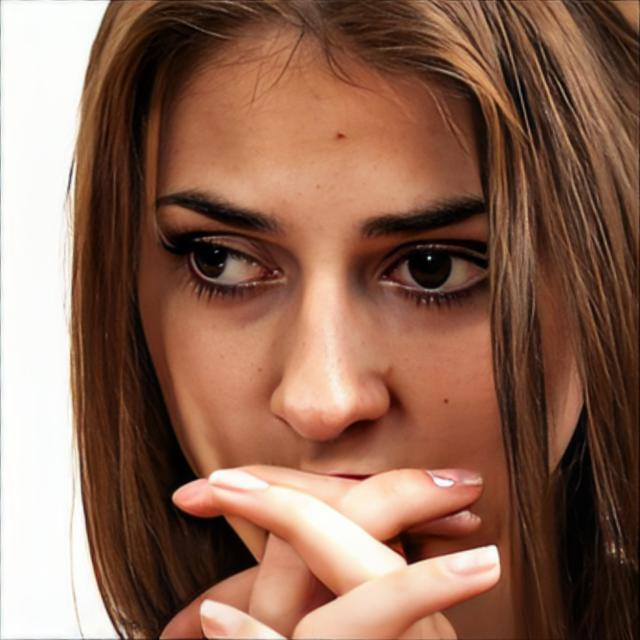fear: (138, 4, 592, 596)
